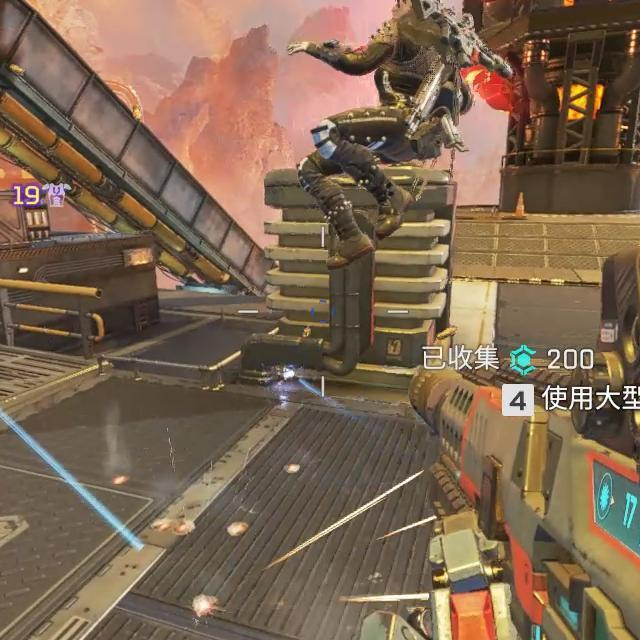avatar: (295, 0, 478, 272)
